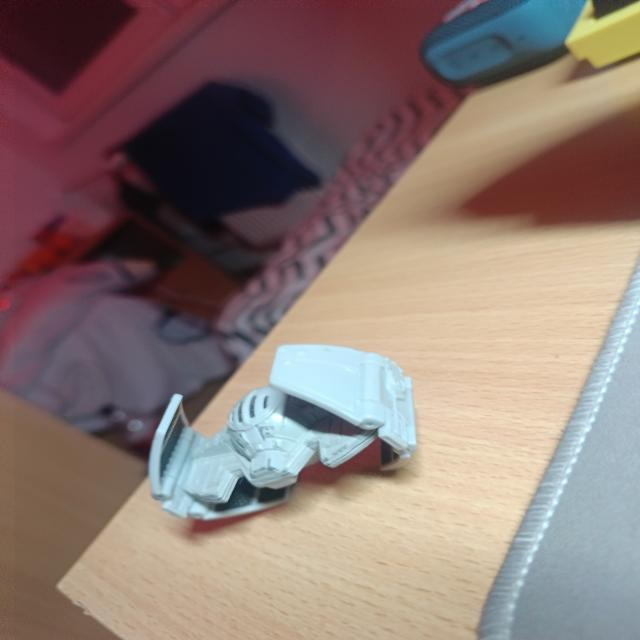tie fighter: (149, 344, 416, 520)
